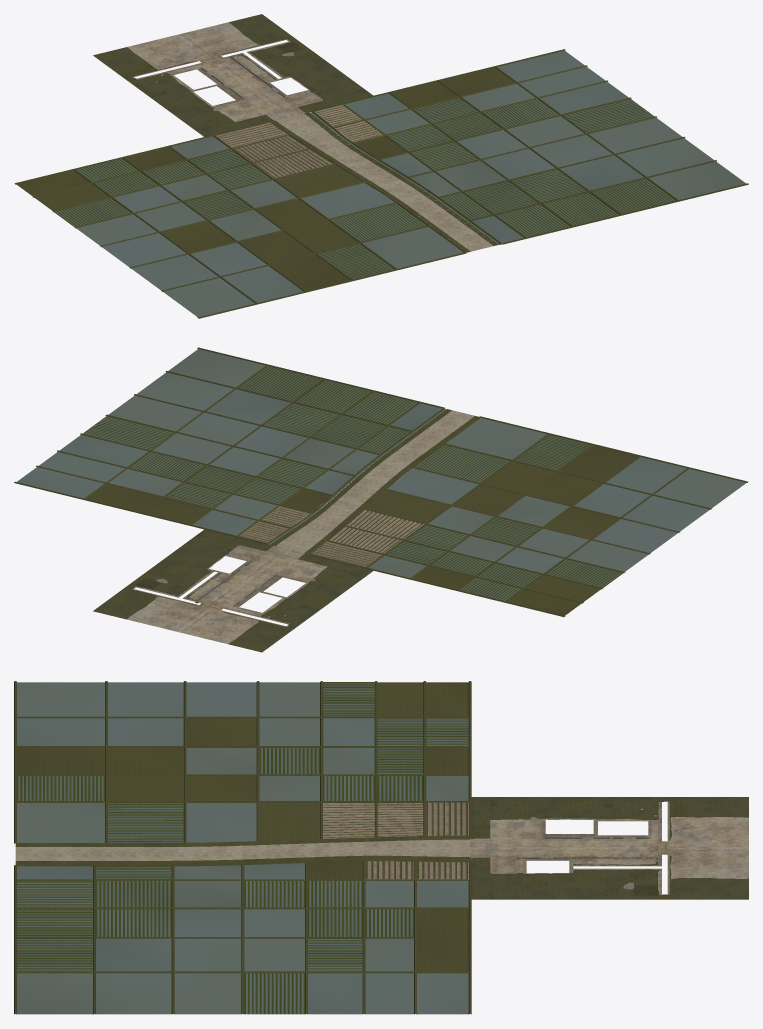
The model's file is ground_v3.glb.
3 views of the same model, one above another, from view 1: azimuth 30°, elevation 25°; view 2: azimuth 150°, elevation 25°; view 3: azimuth 270°, elevation 25° (orthographic). The views are drawn at different scales.
Parts seen in each view (by area): view 1: ground_fields, ground_terrain; view 2: ground_fields, ground_terrain; view 3: ground_fields, ground_terrain, ground_stone.
Part boxes in pixels (bbox=[...]): ground_fields: bbox=[14, 49, 748, 318]; ground_terrain: bbox=[93, 14, 372, 136]; ground_fields: bbox=[14, 347, 748, 616]; ground_terrain: bbox=[93, 529, 373, 652]; ground_fields: bbox=[14, 681, 474, 1014]; ground_terrain: bbox=[470, 797, 748, 899]; ground_stone: bbox=[516, 808, 681, 863].
Size of what is drawn, in the model's own units: 130 by 0.523 by 121.
Materials: 9 (8 with a texture image).
